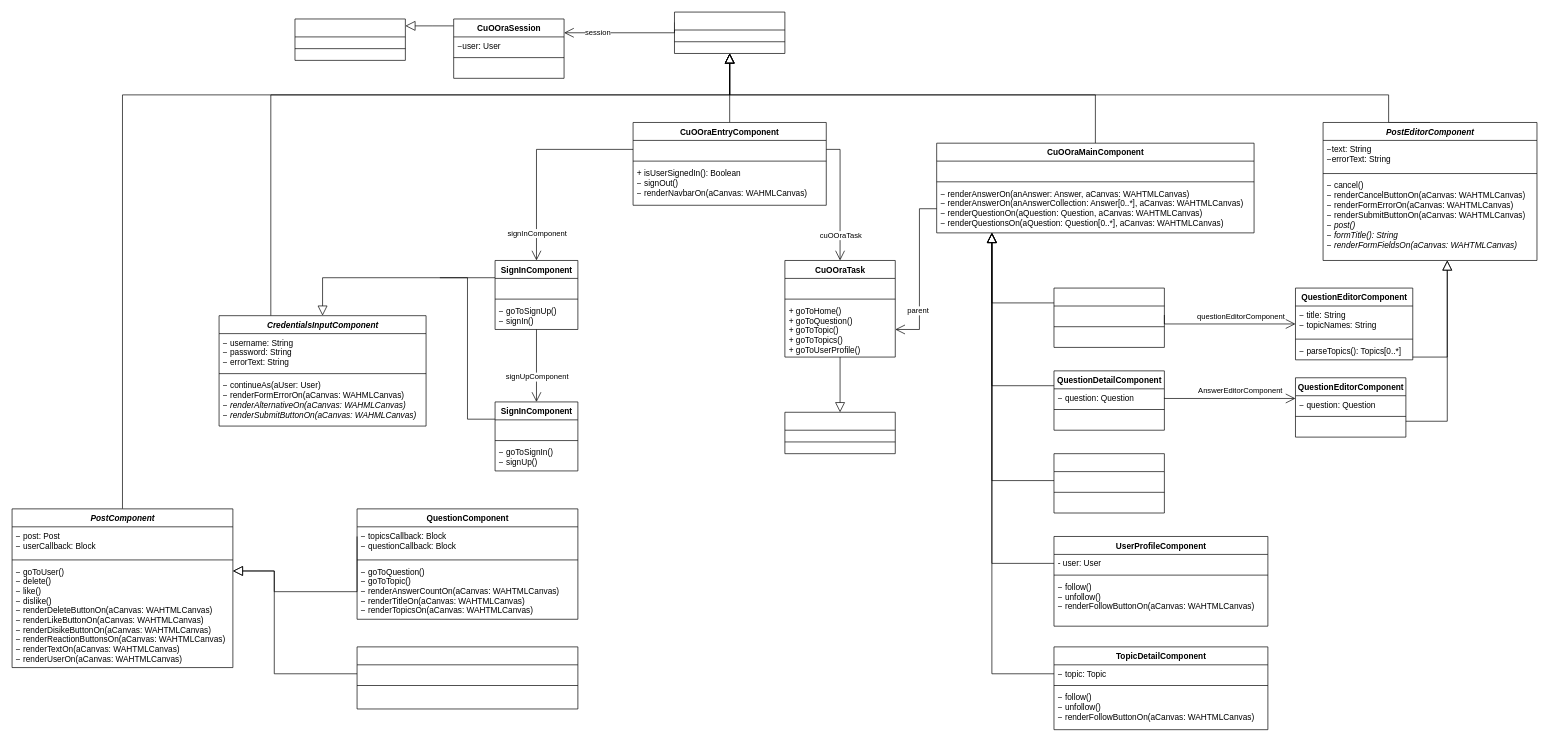
This 1549x744 diagram has some shape labels left out. Here are the shapes that lost their labels. From the top down, the centre of each, then its label:
the point at 349,39: WASesssion
the point at 729,32: WAComponent
the point at 1108,317: HomeComponent
the point at 839,433: WATask
the point at 1108,483: TopicListComponent
the point at 467,677: AnswerComponent
